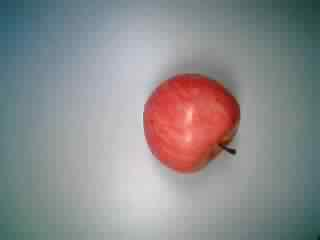apple: (141, 71, 246, 173)
